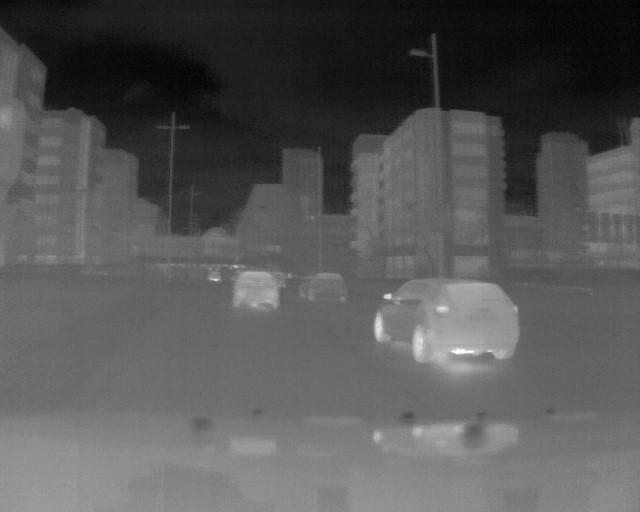car: (371, 276, 521, 365), (233, 272, 280, 316), (299, 271, 347, 305)
